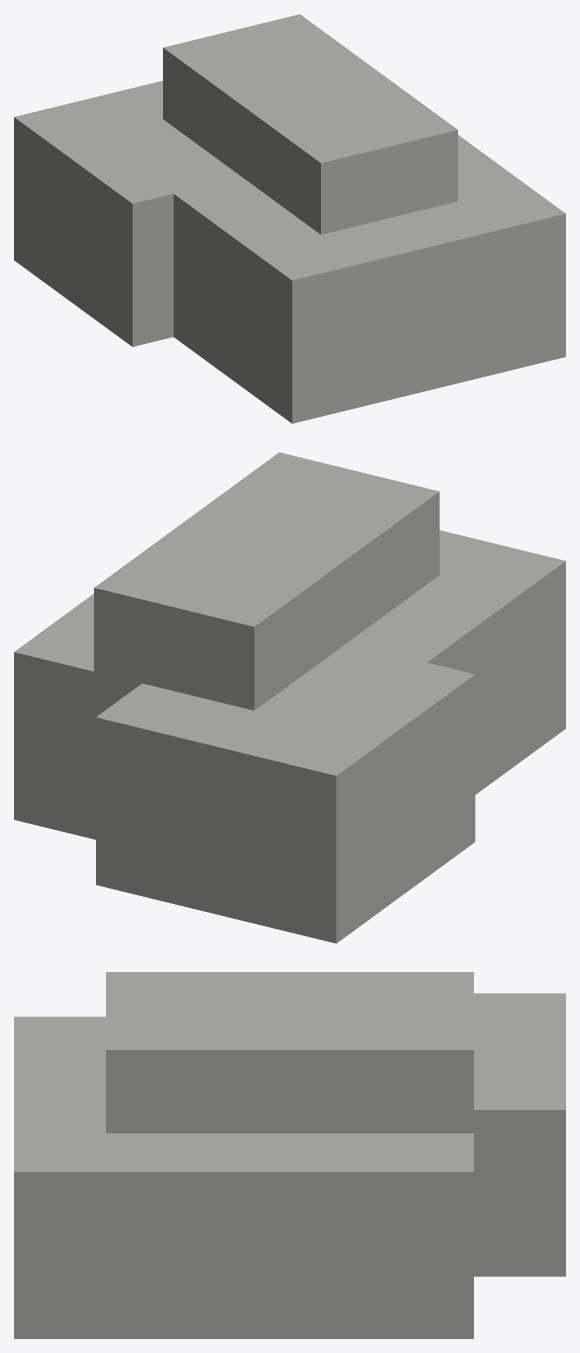
Rendered from rock_1.glb.
The picture shows the model from 3 angles, top to bottom: view 1: azimuth 30°, elevation 25°; view 2: azimuth 150°, elevation 25°; view 3: azimuth 270°, elevation 25°; orthographic projection. The views are drawn at different scales.
Visible parts, largest first — view 1: cube (×2), piedra01; view 2: cube (×2), piedra01; view 3: cube (×2), piedra01.
Part boxes in pixels (box(x1,y1,x2,y2)): cube (×2): box(14, 80, 565, 423); piedra01: box(163, 14, 457, 234); cube (×2): box(14, 530, 565, 943); piedra01: box(94, 452, 439, 755); cube (×2): box(14, 993, 565, 1338); piedra01: box(106, 972, 473, 1133).
Size of the model in its own units: 0.1437 by 0.0938 by 0.1875.
1 material, 1 textured.
